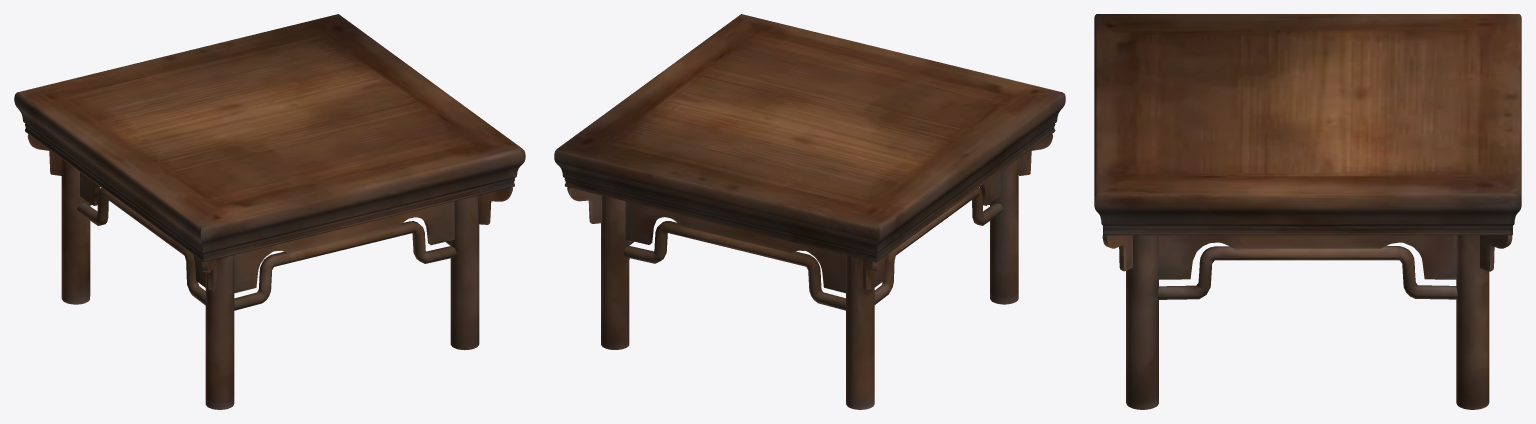
File: ph_chinese_tea_table.glb
The picture shows the model from 3 angles, left to right: view 1: azimuth 30°, elevation 25°; view 2: azimuth 150°, elevation 25°; view 3: azimuth 270°, elevation 25°; orthographic projection. The views are drawn at different scales.
Parts seen in each view (by area): view 1: chinese_tea_table; view 2: chinese_tea_table; view 3: chinese_tea_table.
Boxes of the visible parts, x1,y1,x2,y2 form: chinese_tea_table: [14, 14, 525, 409]; chinese_tea_table: [554, 14, 1065, 409]; chinese_tea_table: [1094, 14, 1521, 409].
Bounding box in the file's own units: 0.8413 × 0.4986 × 0.8356.
Materials: 1 (1 with a texture image).
